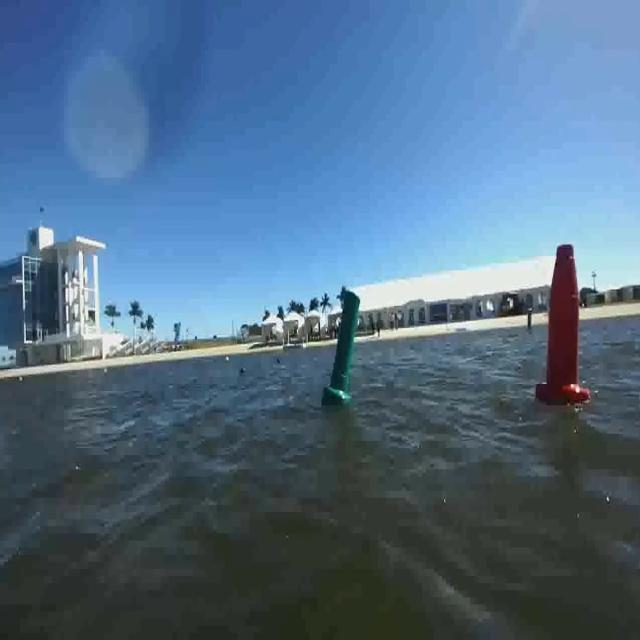green-column-buoy: (326, 290, 363, 407)
red-column-buoy: (536, 240, 594, 412)
